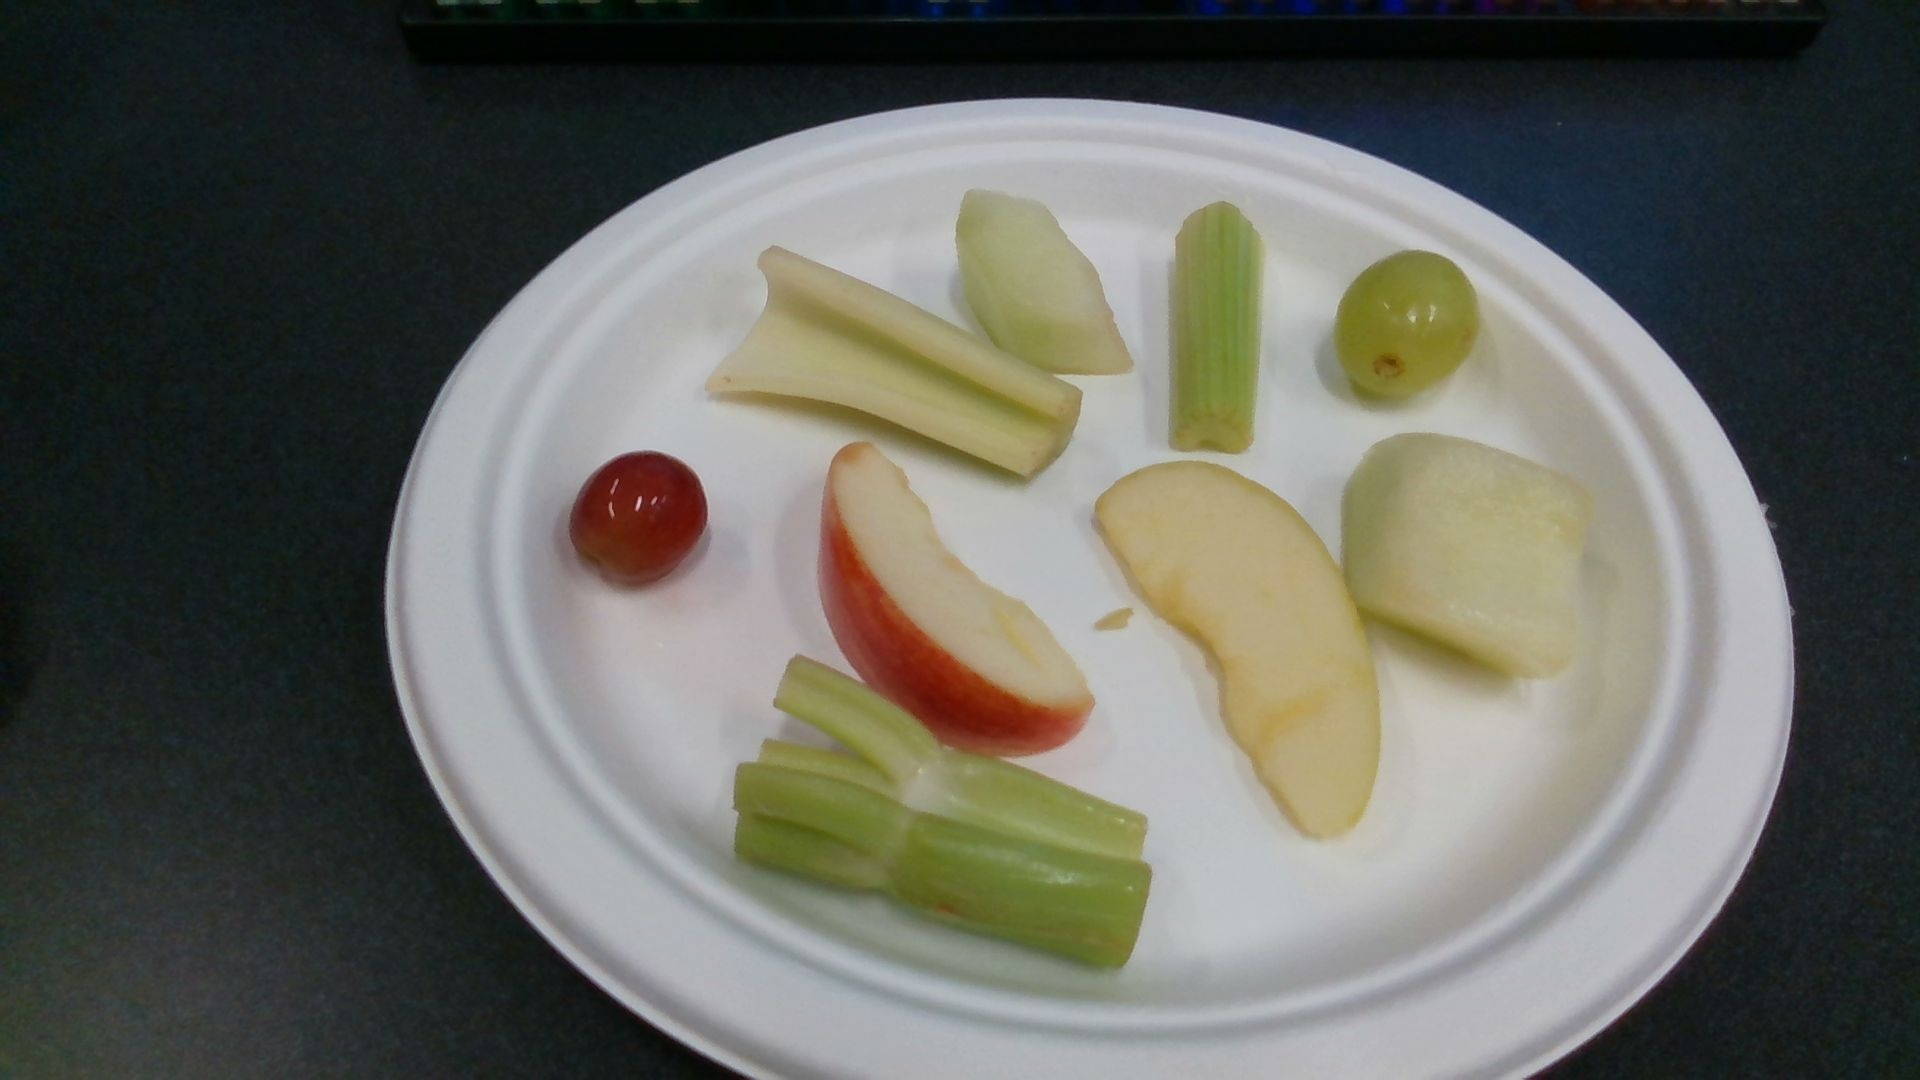apple: (1095, 463, 1382, 840), (820, 444, 1095, 756)
cantalope: (1342, 435, 1589, 678), (957, 189, 1134, 376)
celery: (737, 655, 1149, 975), (707, 247, 1083, 476), (1170, 204, 1261, 448)
grape_green: (1338, 253, 1476, 396)
grape_purple: (572, 454, 707, 585)
